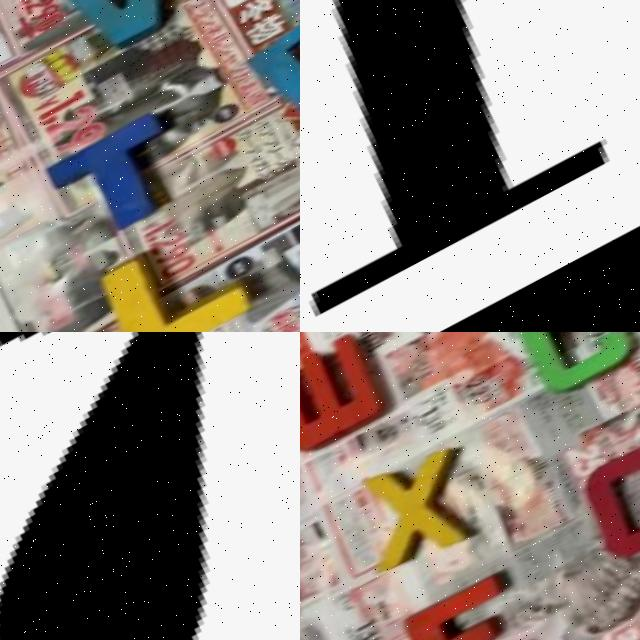1: (300, 0, 640, 325)
7: (0, 332, 300, 640)
C: (513, 332, 640, 402)
E: (392, 565, 559, 640)
L: (99, 216, 269, 332)
O: (575, 426, 640, 563)
P: (246, 0, 300, 133)
T: (56, 111, 201, 243)
V: (50, 0, 199, 60)
W: (300, 332, 398, 457)
X: (350, 435, 500, 574)
